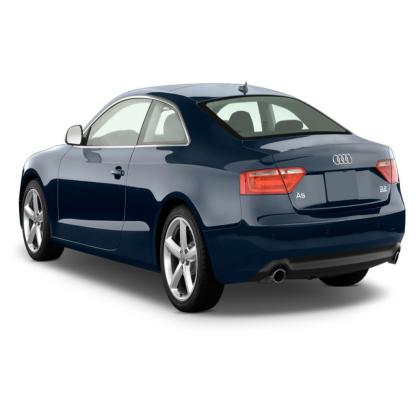Vehicle: (19, 84, 406, 315)
